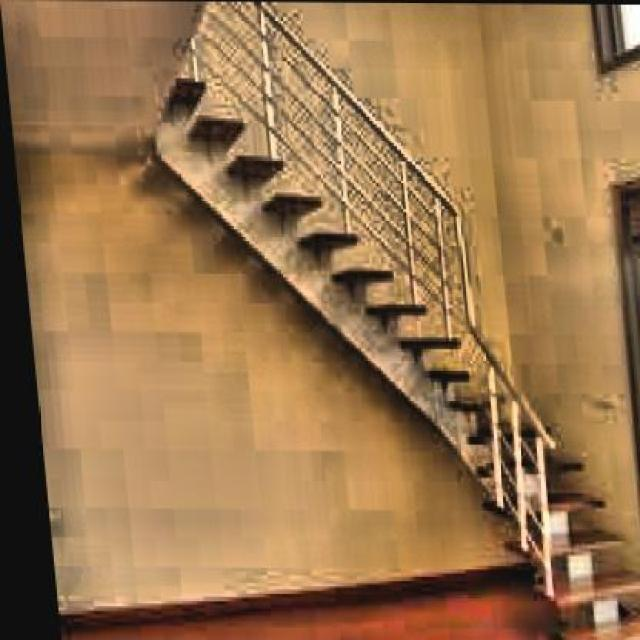stair: (440, 406, 638, 639)
